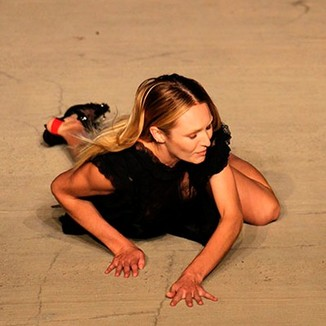fall: (41, 40, 281, 323)
